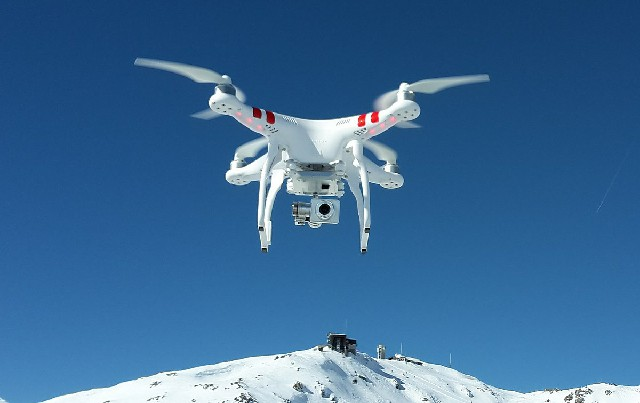maybay_khongnguoilai: (155, 50, 446, 243)
